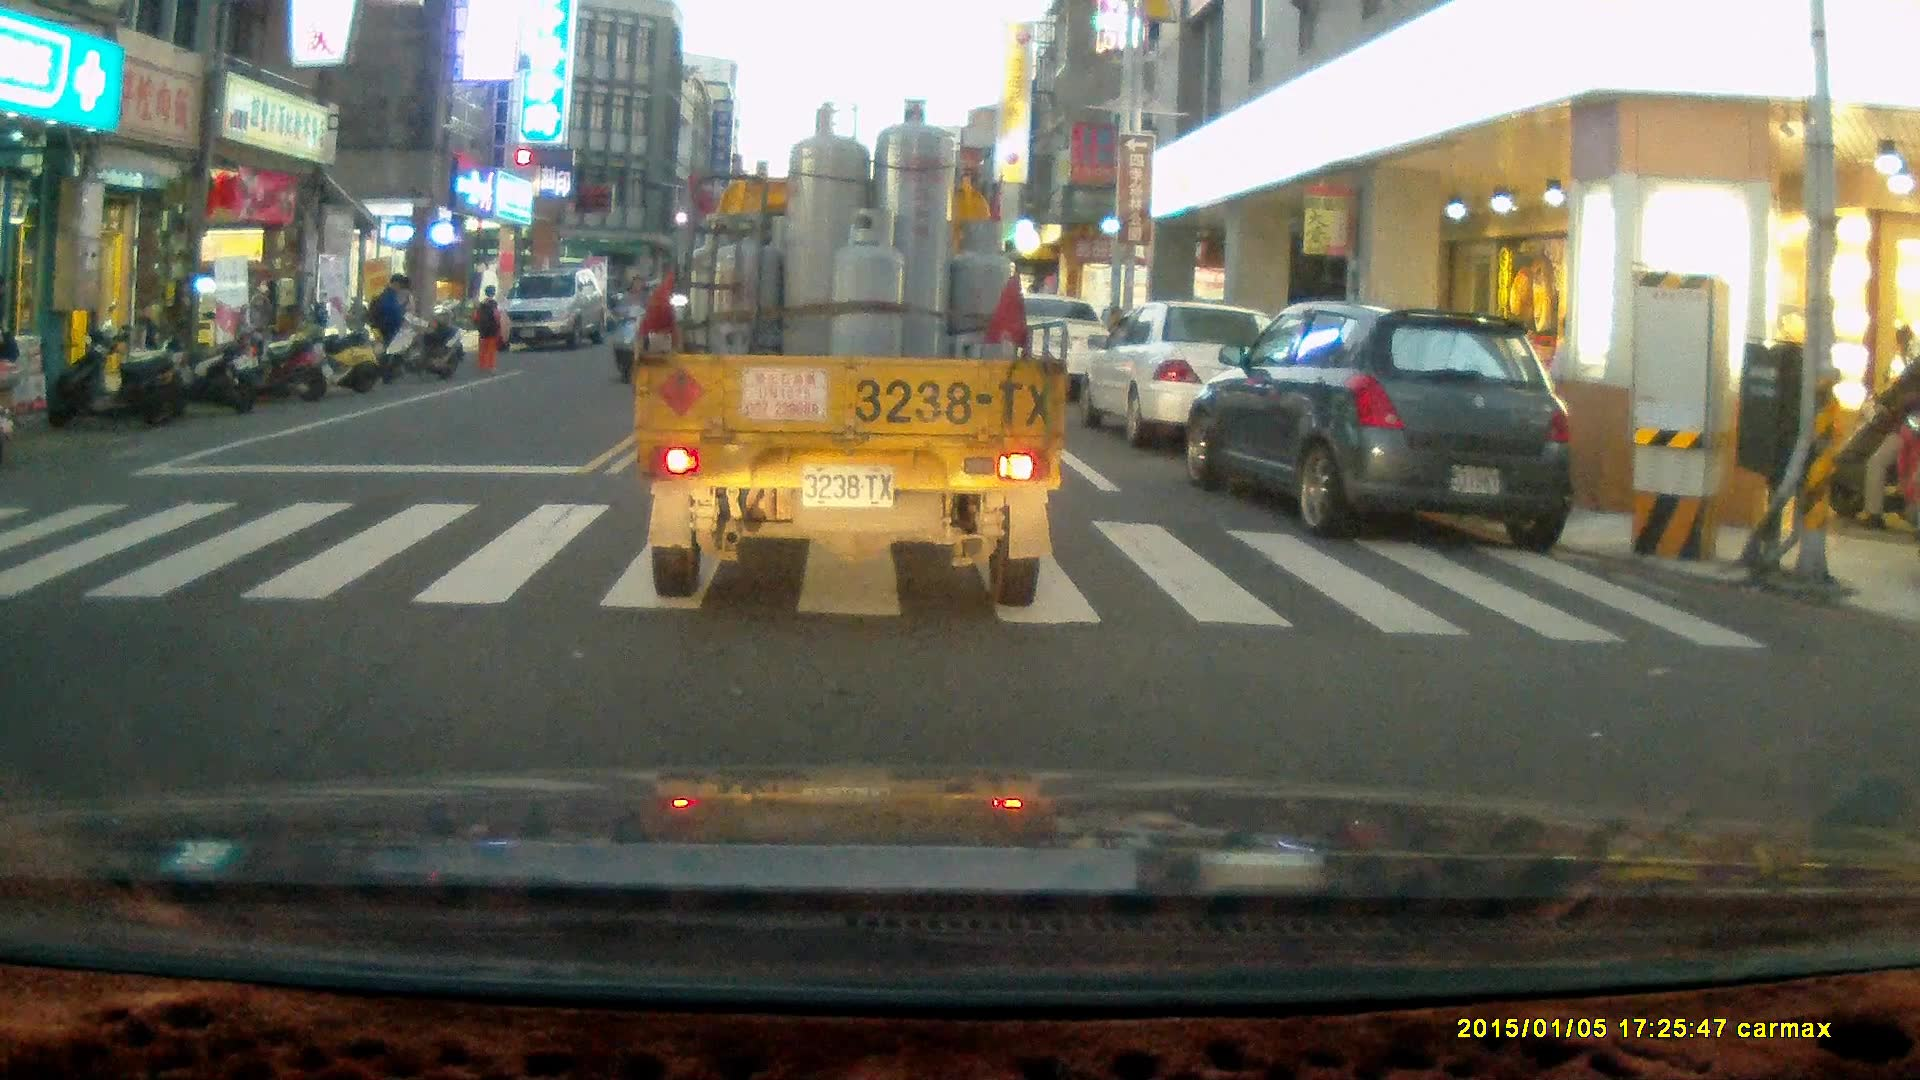pedestrian: (365, 272, 405, 378), (467, 281, 507, 372), (239, 273, 269, 371)
rider: (1827, 335, 1920, 541), (605, 272, 660, 382)
vehicle: (639, 107, 1067, 599), (1188, 299, 1575, 547), (1084, 304, 1300, 453), (987, 295, 1121, 409), (498, 267, 608, 349)
